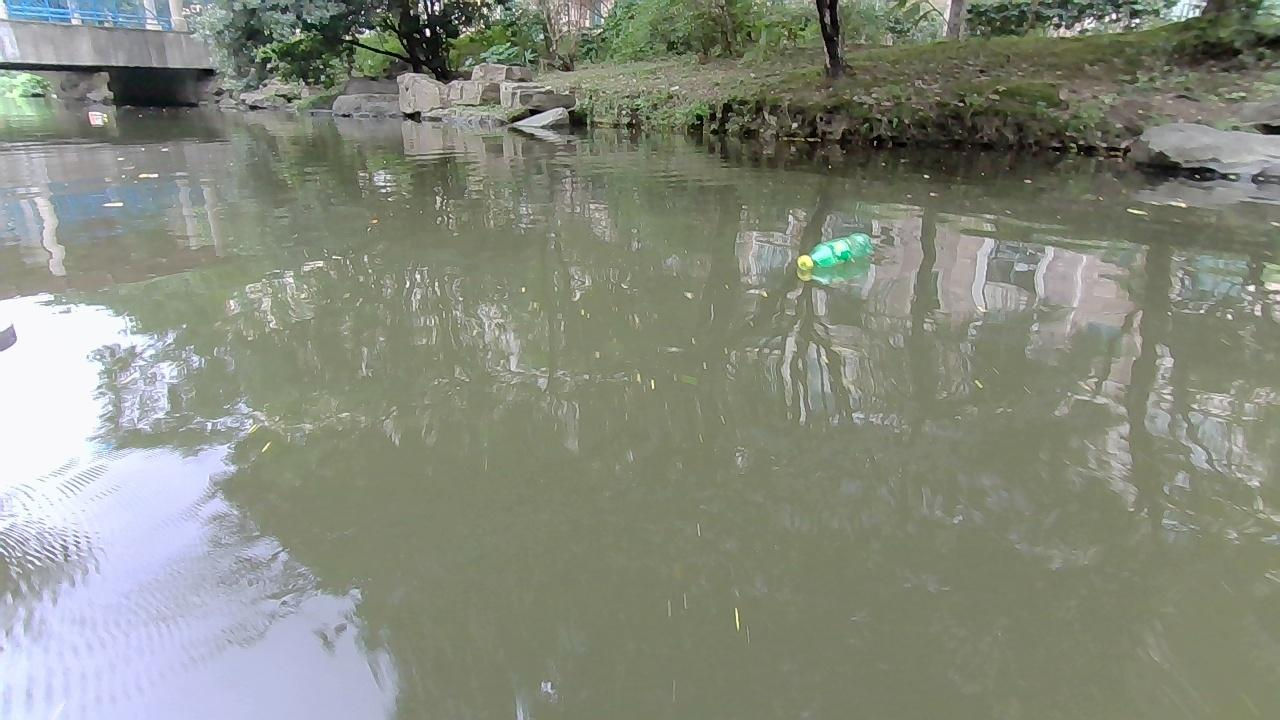bottle: (791, 225, 876, 268), (85, 109, 112, 122)
